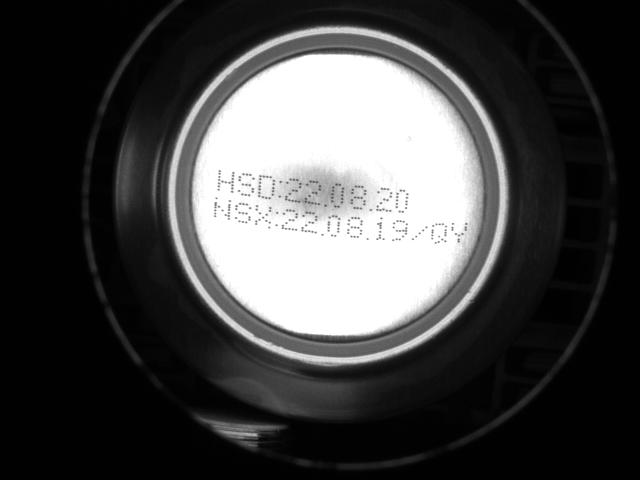.: (319, 225, 325, 238), (365, 231, 371, 243), (368, 200, 374, 212), (323, 197, 329, 208)
/: (411, 222, 428, 243)
0: (329, 181, 345, 210), (326, 211, 342, 240), (393, 185, 409, 214)
1: (374, 214, 387, 244)
2: (375, 184, 393, 216), (284, 175, 302, 204), (303, 177, 321, 206), (280, 204, 298, 233), (299, 208, 317, 237)
8: (349, 183, 367, 212), (345, 213, 363, 242)
9: (391, 218, 408, 244)
:: (276, 178, 283, 201), (273, 204, 279, 228)
D: (257, 172, 276, 202)
H: (216, 168, 235, 195)
N: (212, 195, 231, 224)
Q: (430, 220, 448, 247)
S: (236, 169, 255, 197), (233, 199, 252, 225)
X: (253, 202, 272, 229)
Y: (450, 218, 469, 247)
